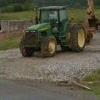Tractor: (12, 7, 100, 59)
